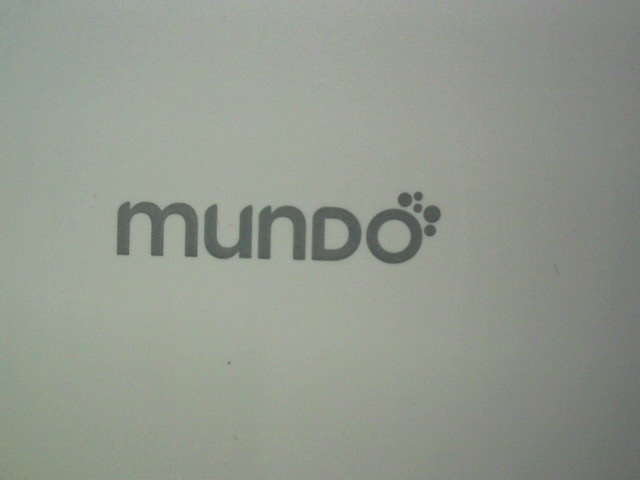BI_MUNDO: (106, 178, 448, 272)
